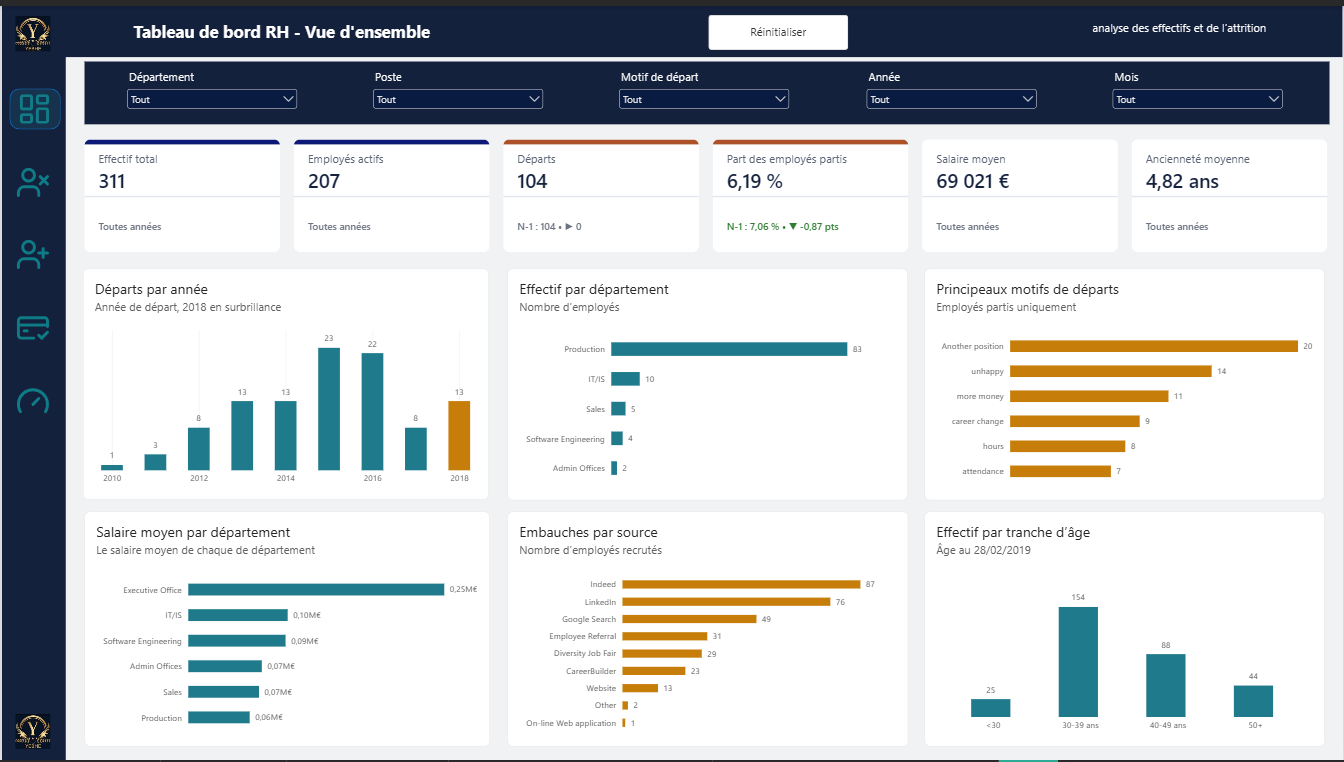

The page's visual inventory and layout, read from the dashboard file:
{"tool":"powerbi","page":{"name":"Dashboard","canvas":[1920,1080],"ordinal":0},"visuals":[{"type":"image","box":[19.3,15,50,50],"z":0,"group":"g1"},{"type":"shape","box":[117.1,80.5,1783.5,90.3],"z":0},{"type":"shape","box":[0,0,91.5,1080.8],"z":1000},{"type":"image","box":[19.3,1014.1,50,50],"z":1000,"group":"g1"},{"type":"shape","box":[0,0,1920.1,73.2],"z":2000},{"type":"image","box":[21.9,122,50,50],"z":2000,"group":"g1"},{"type":"cardVisual","fields":{"Data":["_Mesures.Effectif total","_Mesures.Employés actifs","_Mesures.Nb departs","_Mesures.Taux de depart","_Mesures.Salaire moyen toutes années","_Mesures.Anciennete moyenne Texte"]},"box":[117.1,190.3,1783.5,161],"z":3000},{"type":"image","box":[19.5,226.9,50,50],"z":3000,"group":"g1"},{"type":"slicer","fields":{"Values":["dim_date.Month name"]},"box":[1585.9,90.3,253.7,73.2],"z":4000},{"type":"image","box":[19.5,331.8,50,50],"z":4000,"group":"g1"},{"type":"clusteredColumnChart","title":"Départs par année","fields":{"Category":["dim_date.Year"],"Y":["_Mesures.Nb departs"]},"box":[116.2,375.9,581.2,331.4],"z":5000},{"type":"image","box":[19.5,436.7,50,50],"z":5000,"group":"g1"},{"type":"clusteredBarChart","title":"Effectif par département","fields":{"Category":["dim_department.Department"],"Y":["_Mesures.Nb departs"]},"box":[724.6,375.7,573.4,331.8],"z":6000},{"type":"image","box":[19.5,541.6,50,50],"z":6000,"group":"g1"},{"type":"clusteredBarChart","title":"Principeaux motifs de départs","fields":{"Category":["dim_emp_status.TermReason"],"Y":["_Mesures.Nb departs"]},"box":[1322.4,375.7,573.4,331.8],"z":7000},{"type":"clusteredBarChart","title":"Salaire moyen par département ","fields":{"Category":["dim_department.Department"],"Y":["_Mesures.Salaire moyen"]},"box":[117.1,724.6,580.7,336.7],"z":8000},{"type":"clusteredBarChart","title":"Embauches par source","fields":{"Category":["dim_recrutment_source.RecruitmentSource"],"Y":["_Mesures.Effectif total"]},"box":[724.6,724.6,573.8,336.4],"z":9000},{"type":"clusteredColumnChart","title":"Effectif par tranche d’âge","fields":{"Category":["dim_employee.TrancheAge"],"Y":["_Mesures.Effectif total"]},"box":[1322.4,724.6,573.4,336.7],"z":10000},{"type":"slicer","fields":{"Values":["dim_date.Year"]},"box":[1232.7,90.3,253.7,73.2],"z":11000},{"type":"slicer","fields":{"Values":["dim_emp_status.TermReason"]},"box":[879.6,90.3,253.7,73.2],"z":12000},{"type":"slicer","fields":{"Values":["dim_position.Position"]},"box":[526.4,90.3,253.7,73.2],"z":13000},{"type":"slicer","fields":{"Values":["dim_department.Department"]},"box":[173.2,90.3,253.7,73.2],"z":14000},{"type":"textbox","box":[138.5,19.8,526.8,34.6],"z":15000},{"type":"actionButton","box":[1011.5,12.4,200,50],"z":16000},{"type":"textbox","box":[1563.1,19.8,301.7,27.2],"z":17000},{"type":"group","id":"g1","title":"Groupe 1","box":[19.3,15,52.6,1049.1],"z":18000},{"type":"shape","box":[9.8,117.1,73.2,58.6],"z":19000}]}

Visuals, with their boxes on the page's 1920x1080 design canvas (x1, y1, x2, y2). These are canvas units, not pixel positions in the 1344x762 screenshot, which may show the page scaled, cropped or inside an application window:
image: [left=19, top=15, right=69, bottom=65]
shape: [left=117, top=80, right=1901, bottom=171]
shape: [left=0, top=0, right=92, bottom=1081]
image: [left=19, top=1014, right=69, bottom=1064]
shape: [left=0, top=0, right=1920, bottom=73]
image: [left=22, top=122, right=72, bottom=172]
cardVisual - _Mesures.Effectif total x _Mesures.Employés actifs: [left=117, top=190, right=1901, bottom=351]
image: [left=20, top=227, right=70, bottom=277]
slicer - dim_date.Month name: [left=1586, top=90, right=1840, bottom=164]
image: [left=20, top=332, right=70, bottom=382]
"Départs par année" clusteredColumnChart: [left=116, top=376, right=697, bottom=707]
image: [left=20, top=437, right=70, bottom=487]
"Effectif par département" clusteredBarChart: [left=725, top=376, right=1298, bottom=708]
image: [left=20, top=542, right=70, bottom=592]
"Principeaux motifs de départs" clusteredBarChart: [left=1322, top=376, right=1896, bottom=708]
"Salaire moyen par département " clusteredBarChart: [left=117, top=725, right=698, bottom=1061]
"Embauches par source" clusteredBarChart: [left=725, top=725, right=1298, bottom=1061]
"Effectif par tranche d’âge" clusteredColumnChart: [left=1322, top=725, right=1896, bottom=1061]
slicer - dim_date.Year: [left=1233, top=90, right=1486, bottom=164]
slicer - dim_emp_status.TermReason: [left=880, top=90, right=1133, bottom=164]
slicer - dim_position.Position: [left=526, top=90, right=780, bottom=164]
slicer - dim_department.Department: [left=173, top=90, right=427, bottom=164]
textbox: [left=138, top=20, right=665, bottom=54]
actionButton: [left=1012, top=12, right=1212, bottom=62]
textbox: [left=1563, top=20, right=1865, bottom=47]
"Groupe 1" group: [left=19, top=15, right=72, bottom=1064]
shape: [left=10, top=117, right=83, bottom=176]
